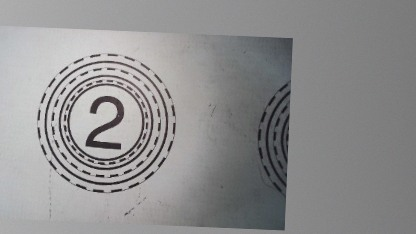2r: (32, 49, 179, 196)
